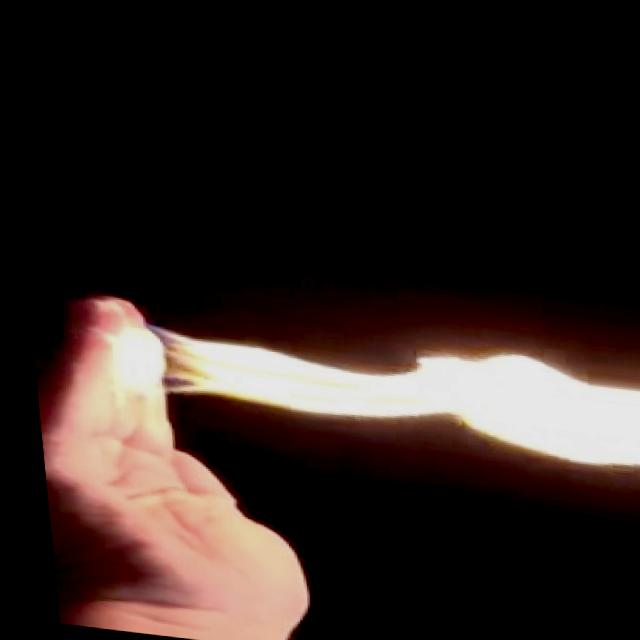helmet: (102, 296, 640, 475)
